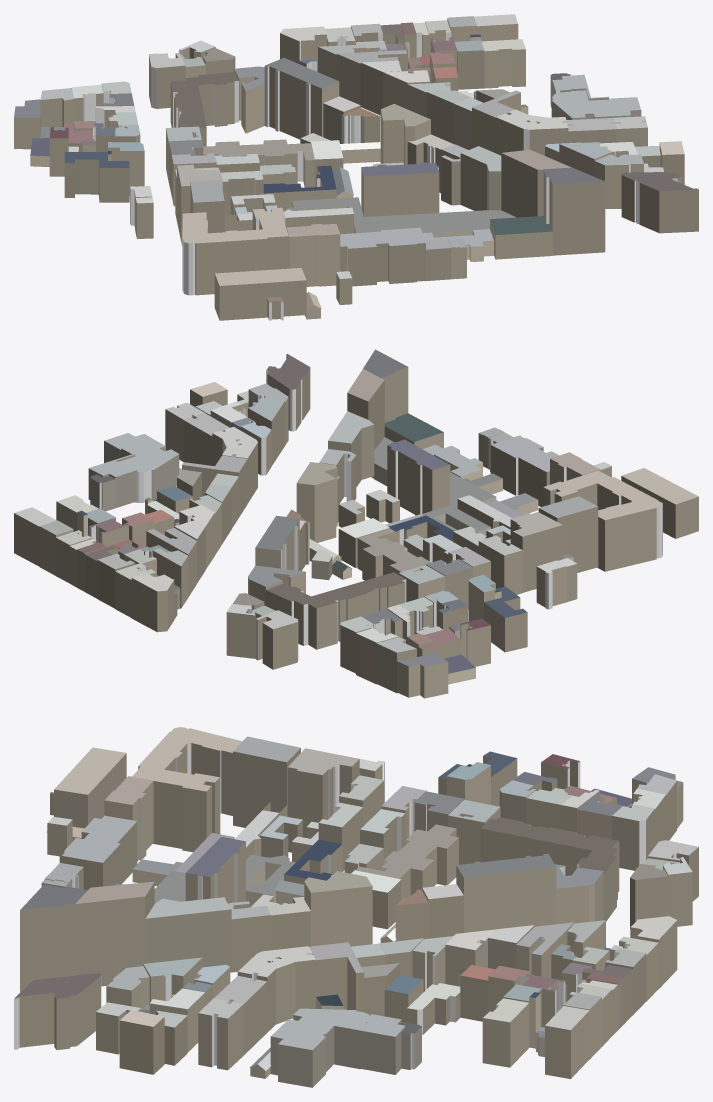
3 renders of one model, top to bottom at view 1: azimuth 30°, elevation 25°; view 2: azimuth 150°, elevation 25°; view 3: azimuth 270°, elevation 25°, orthographic. The views are drawn at different scales.
Visible parts, largest first — view 1: tuile; view 2: tuile; view 3: tuile.
Boxes of the visible parts, x1,y1,x2,y2 form: tuile: (14, 14, 698, 320); tuile: (14, 349, 698, 698); tuile: (14, 727, 698, 1087).
Bounding box in the file's own units: 283 × 41.87 × 272.
